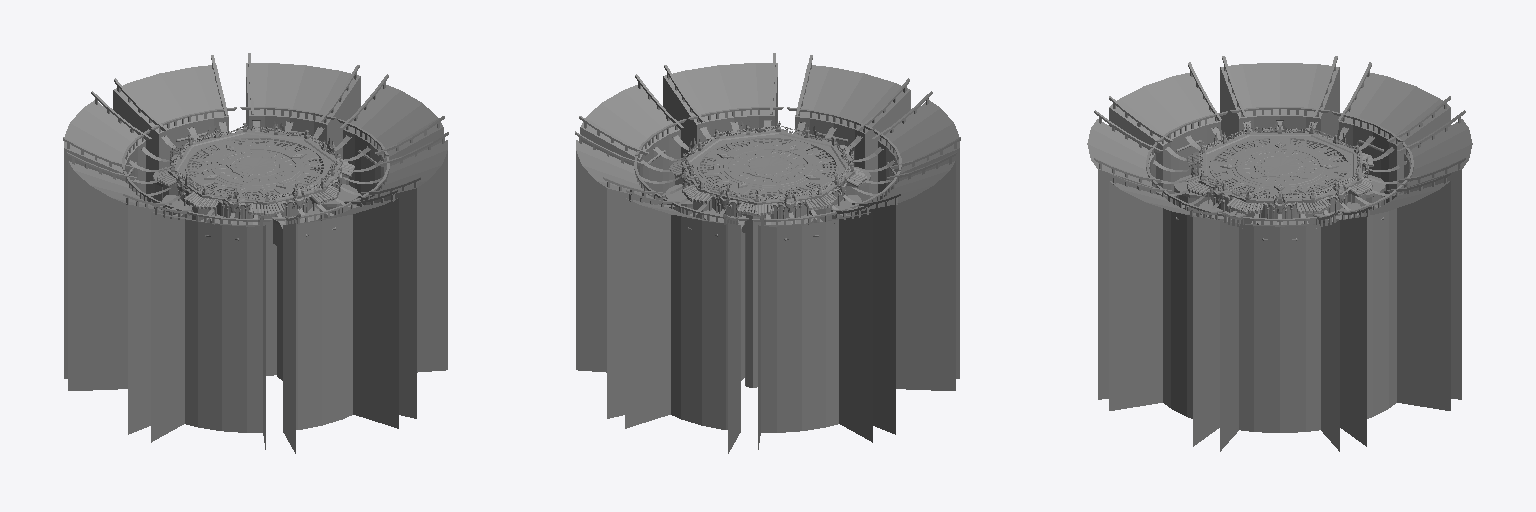
3 renders of one model, left to right at view 1: azimuth 30°, elevation 25°; view 2: azimuth 150°, elevation 25°; view 3: azimuth 270°, elevation 25°, orthographic.
Visible parts, largest first — view 1: Combined_Mesh__root__scene__2, Object03, Combined_Mesh__root__scene_; view 2: Combined_Mesh__root__scene__2, Object03, Combined_Mesh__root__scene_; view 3: Combined_Mesh__root__scene__2, Object03, Combined_Mesh__root__scene_.
Part boxes in pixels (x1,y1,x2,y2): Combined_Mesh__root__scene__2: (64,53,447,453); Object03: (63,55,448,380); Combined_Mesh__root__scene_: (170,123,341,201); Combined_Mesh__root__scene__2: (575,63,959,453); Object03: (626,53,960,229); Combined_Mesh__root__scene_: (682,121,853,201); Combined_Mesh__root__scene__2: (1087,56,1472,451); Object03: (1094,62,1465,224); Combined_Mesh__root__scene_: (1199,123,1360,200).
Size of the model in its own units: 96.23 by 67.02 by 96.23.